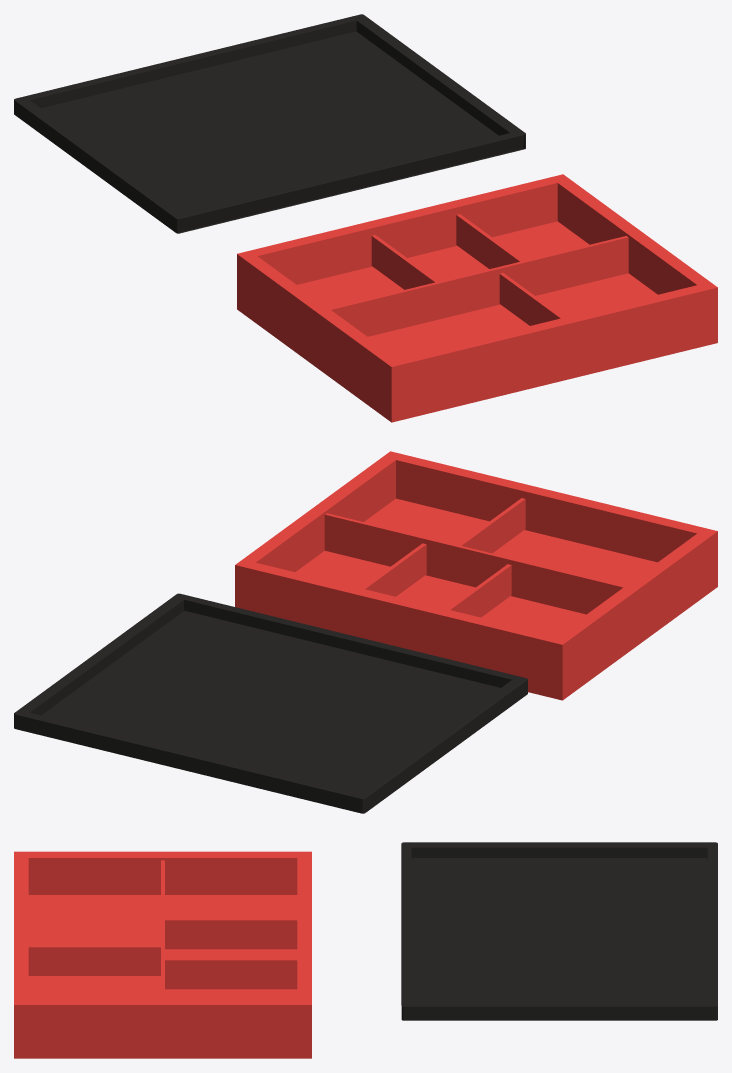
File: bentocomponents.glb
The picture shows the model from 3 angles, top to bottom: view 1: azimuth 30°, elevation 25°; view 2: azimuth 150°, elevation 25°; view 3: azimuth 270°, elevation 25°; orthographic projection. The views are drawn at different scales.
Parts seen in each view (by area): view 1: Cube.006, Cube, Cube.002, Cube.004, Cube.003, Cube.005; view 2: Cube.006, Cube, Cube.002, Cube.005, Cube.003, Cube.004; view 3: Cube.006, Cube, Cube.003, Cube.004, Cube.005, Cube.002.
Part boxes in pixels (<box>): Cube.006: <box>14,14,525,233</box>; Cube: <box>237,174,717,422</box>; Cube.002: <box>329,236,628,336</box>; Cube.004: <box>371,234,438,289</box>; Cube.003: <box>456,214,523,268</box>; Cube.005: <box>499,272,564,325</box>; Cube.006: <box>14,593,527,813</box>; Cube: <box>235,451,717,700</box>; Cube.002: <box>324,513,624,614</box>; Cube.005: <box>458,498,525,553</box>; Cube.003: <box>361,543,426,596</box>; Cube.004: <box>446,564,511,617</box>; Cube.006: <box>401,842,717,1020</box>; Cube: <box>14,851,311,1058</box>; Cube.003: <box>165,958,297,989</box>; Cube.004: <box>165,918,297,949</box>; Cube.005: <box>28,945,160,975</box>; Cube.002: <box>161,860,164,998</box>.
Size of the model in its own units: 4.29 by 0.6912 by 7.76.
